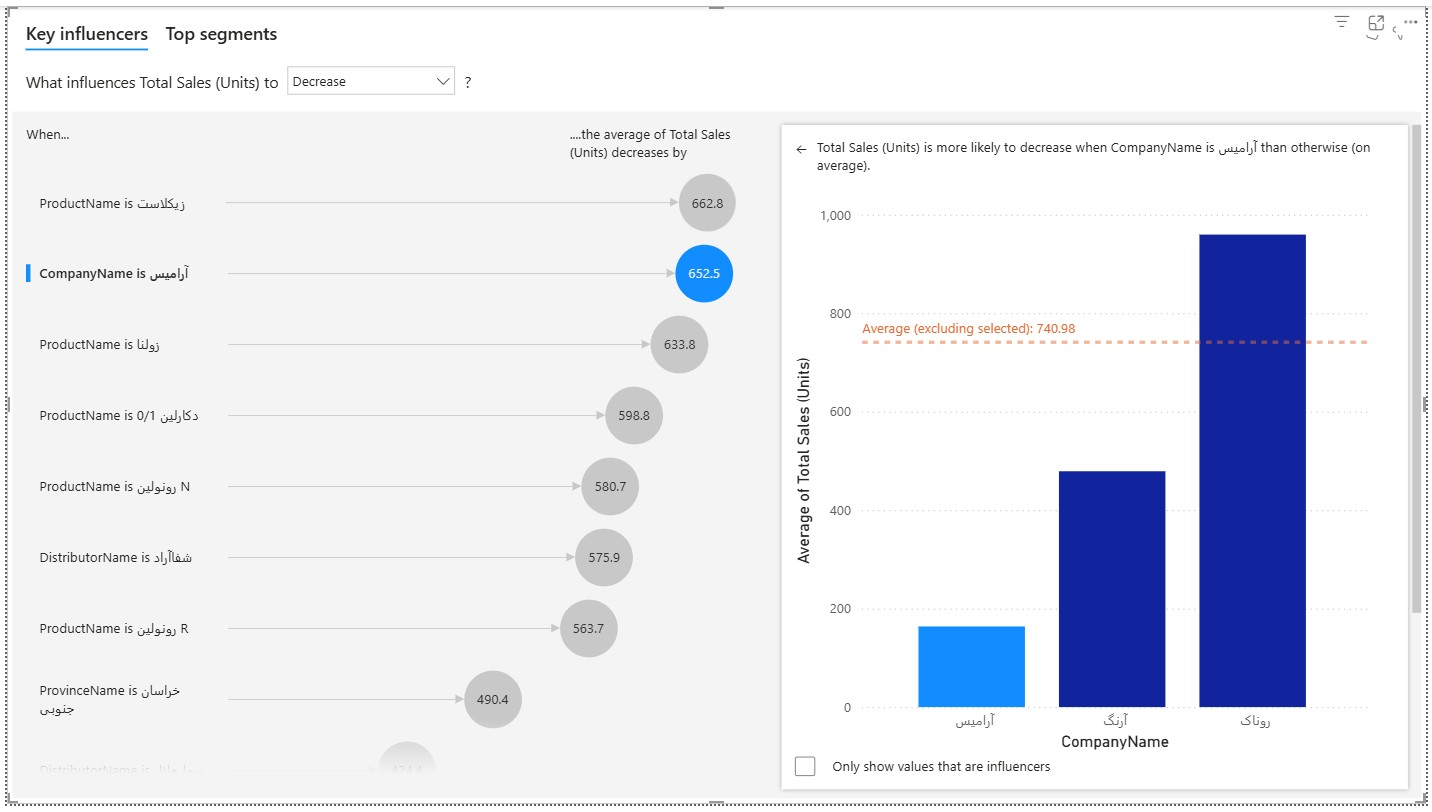

The dashboard page shown, as its layout file describes it:
{"tool":"powerbi","page":{"name":"AI - High Sales Performance","canvas":[1280,720],"ordinal":6},"visuals":[{"type":"keyDriversVisual","fields":{"Target":["Measures Project.Total Sales (Units)"],"ExplainBy":["Distributors.DistributorName","Provinces.ProvinceName","Products.ProductName","Companies.CompanyName"],"Details":["Calendar.PYearMonthLabel"]},"box":[0,0,1280.2,719.8],"z":0}]}

Visuals, with their boxes on the page's 1280x720 design canvas (x1, y1, x2, y2). These are canvas units, not pixel positions in the 1432x812 screenshot, which may show the page scaled, cropped or inside an application window:
keyDriversVisual - Measures Project.Total Sales (Units) x Distributors.DistributorName: [x1=0, y1=0, x2=1280, y2=720]
